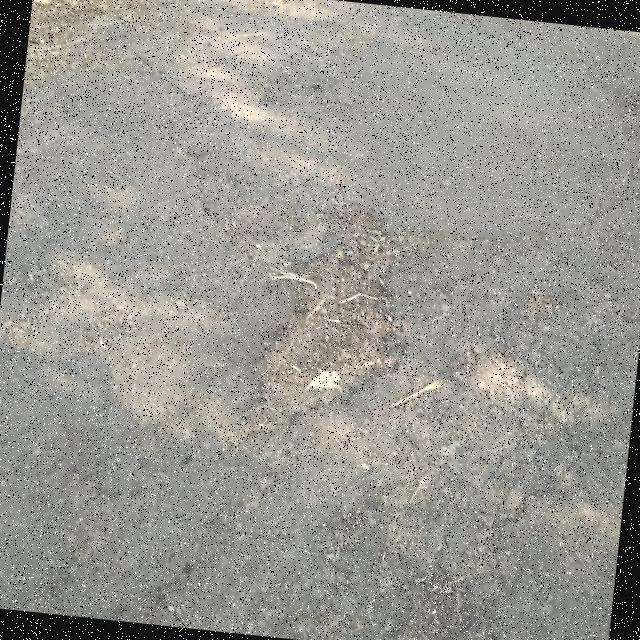Pothole: (196, 169, 550, 433)
